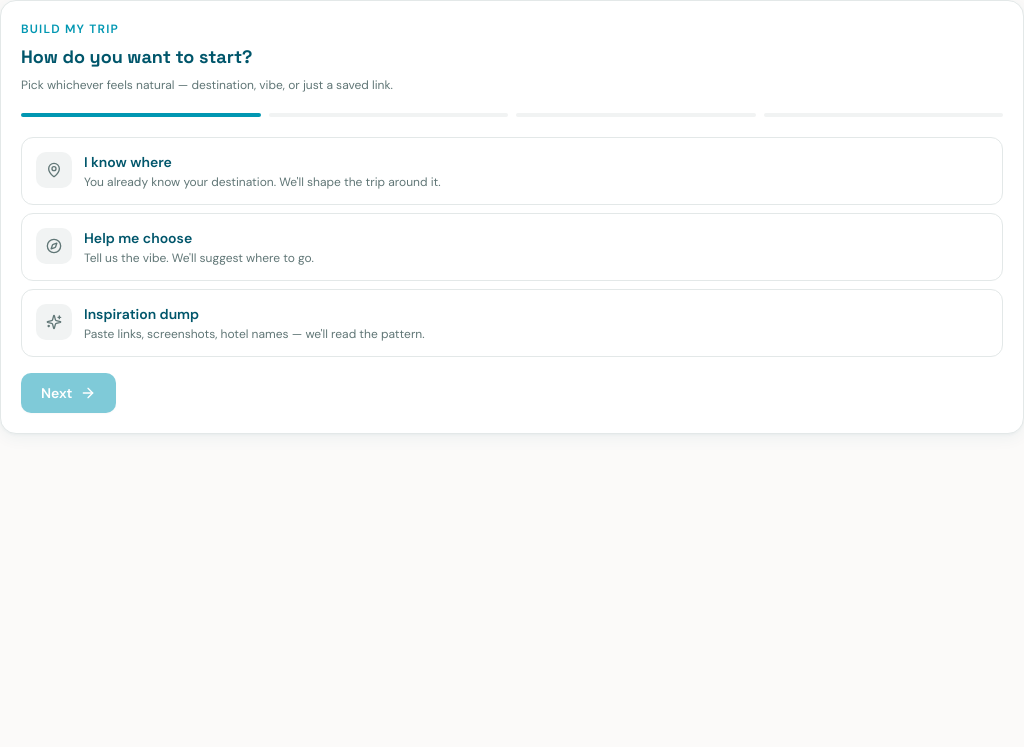
Scenario: TravelerBuildTripFlow › lets weak inspiration reach the first useful question without forcing all optional details
This screenshot has width=1024, height=747.
Click the text "Inspiration dump".
click(142, 314)  # box [84,305,199,323]
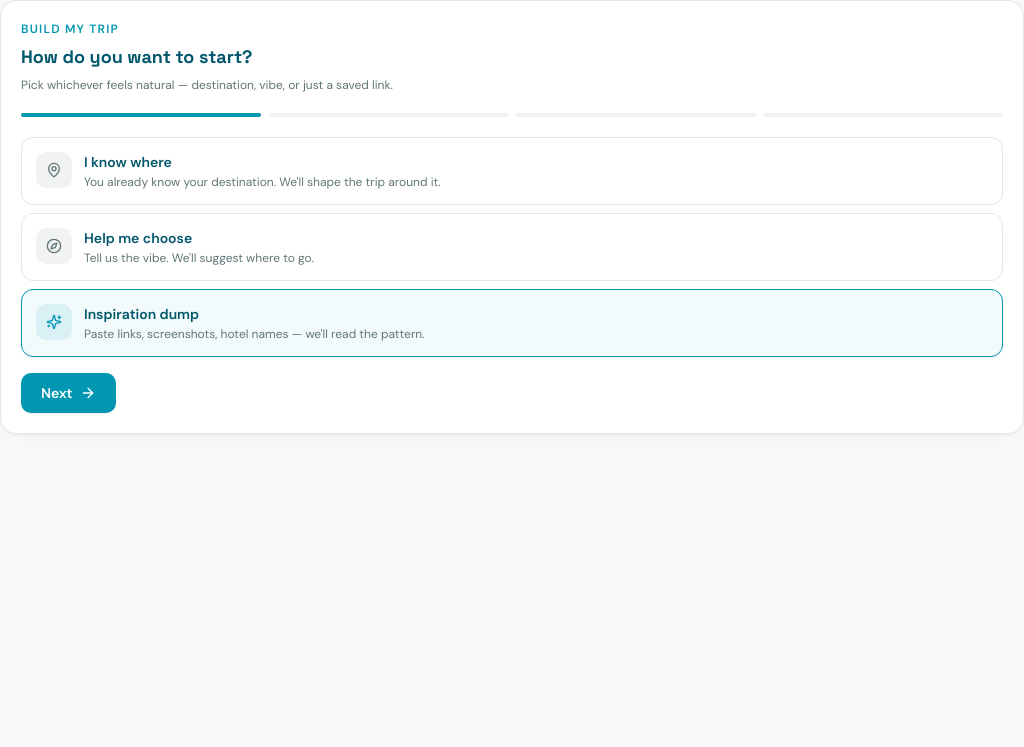
Click the button "Next".
click(69, 393)  # box [21,373,116,413]
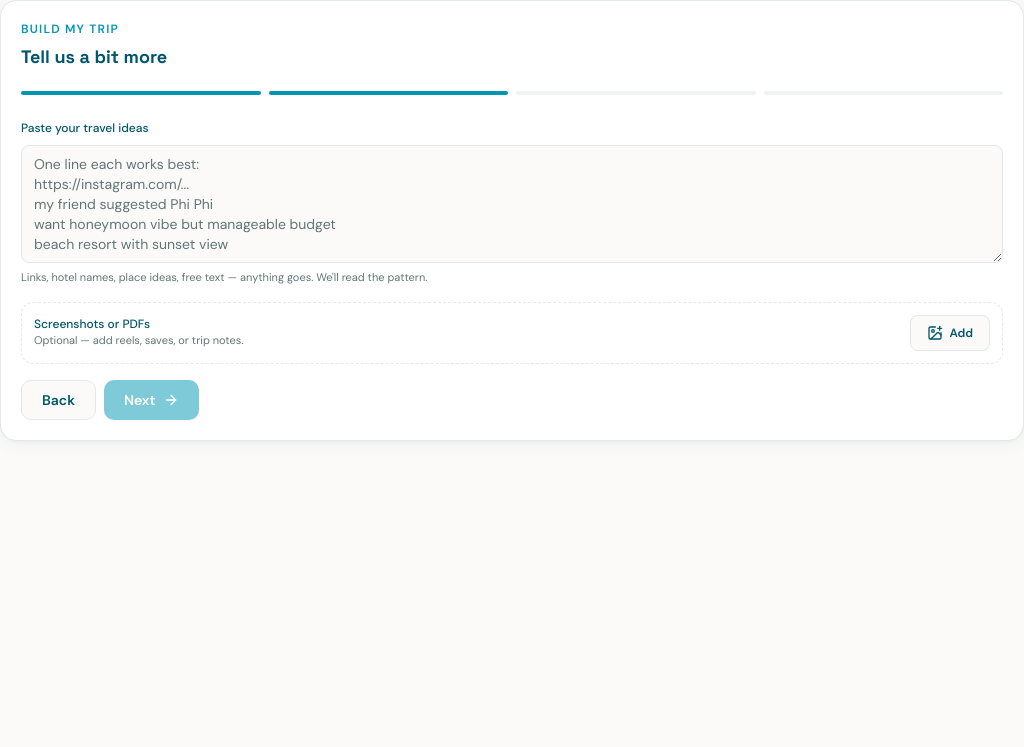
Replace the text in the text box with placeholder "One line each works best" with "https://www.instagram.com/reel/C9travelidea123/" at (512, 204), box [21,145,1003,263]
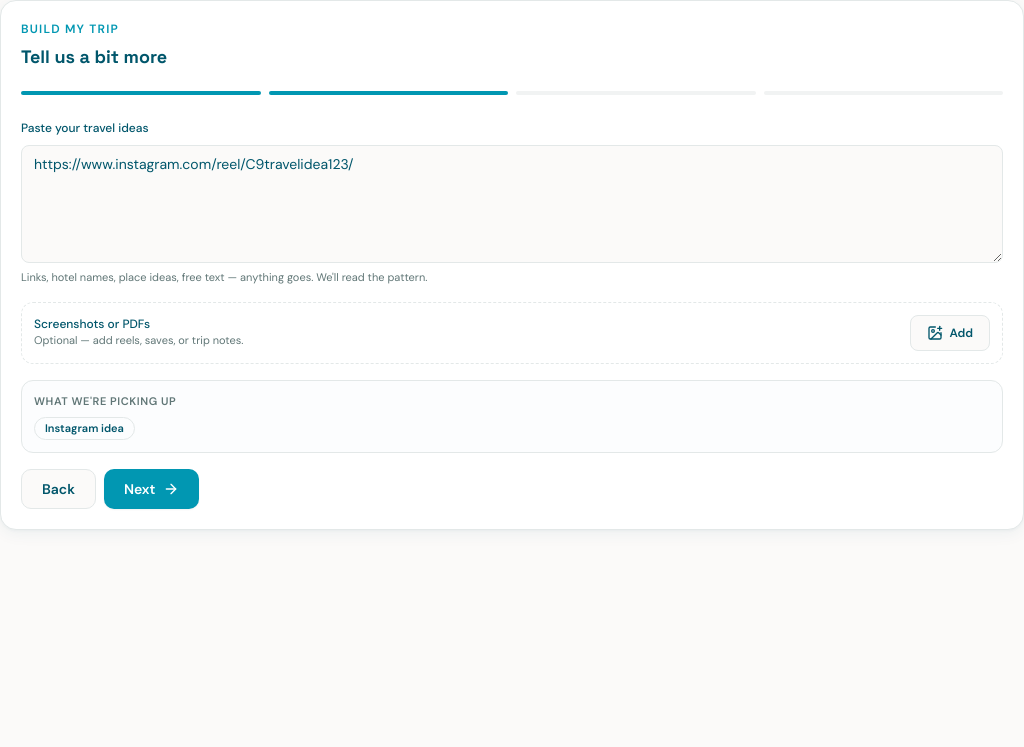
Click the button "Next".
click(152, 488)  # box [104,468,200,508]
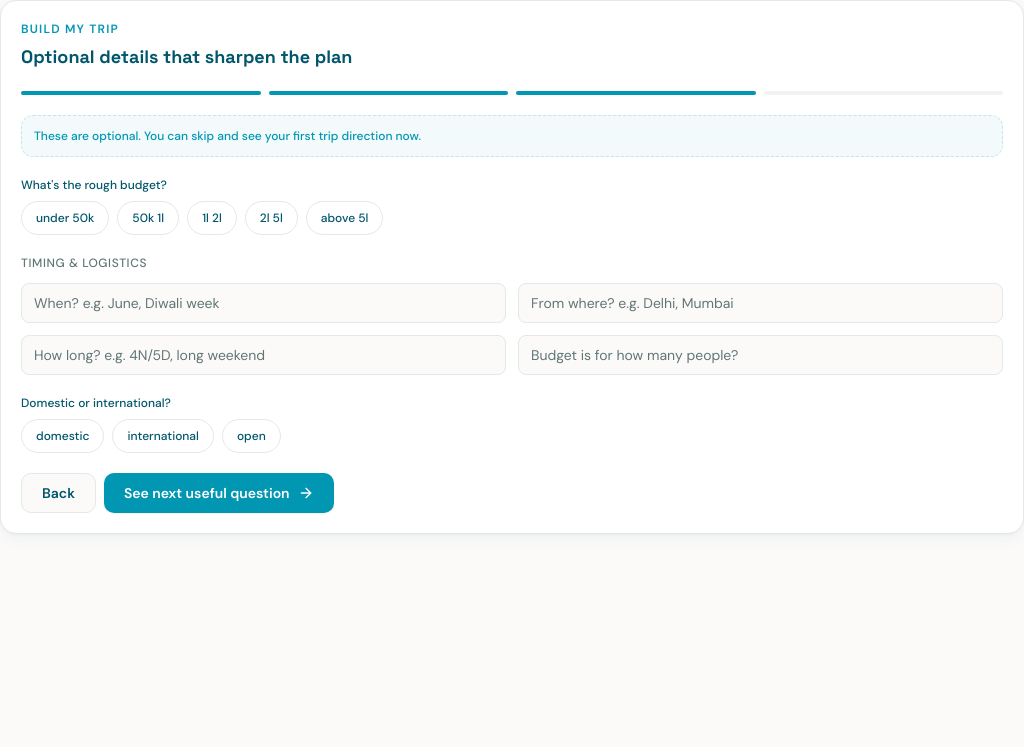
Click the button "See next useful question".
click(219, 493)  # box [104,473,334,513]
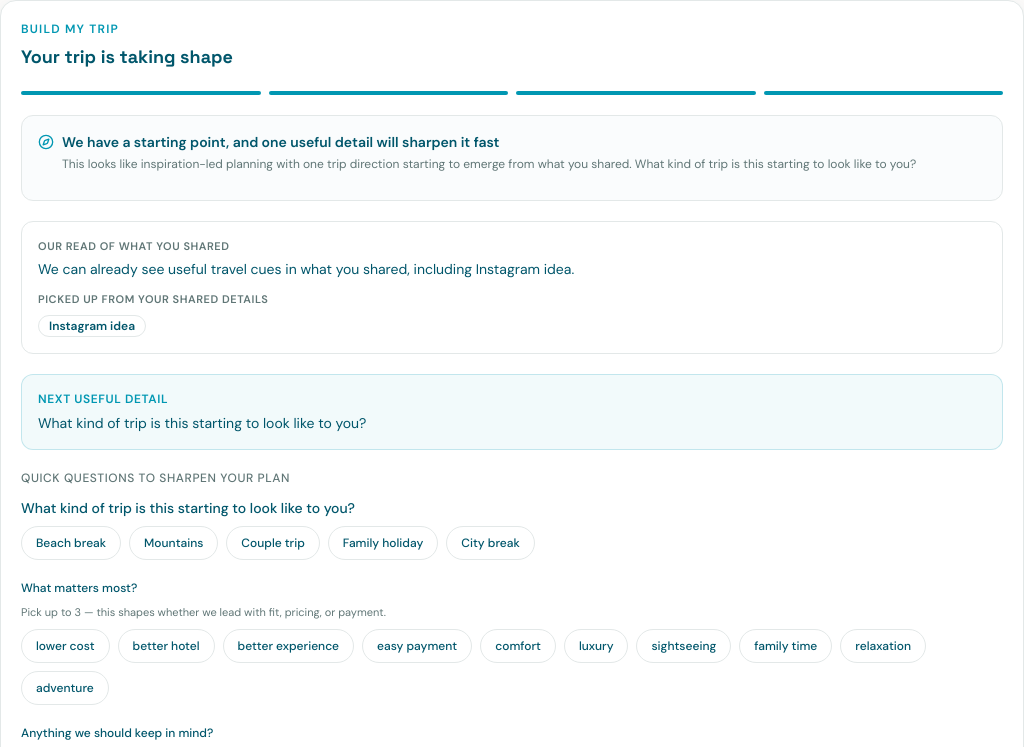
Check: the text "Our read of what you shared" is shown, box [38,239,230,253]
Check: the text "Next useful detail" is shown, box [38,391,168,407]
